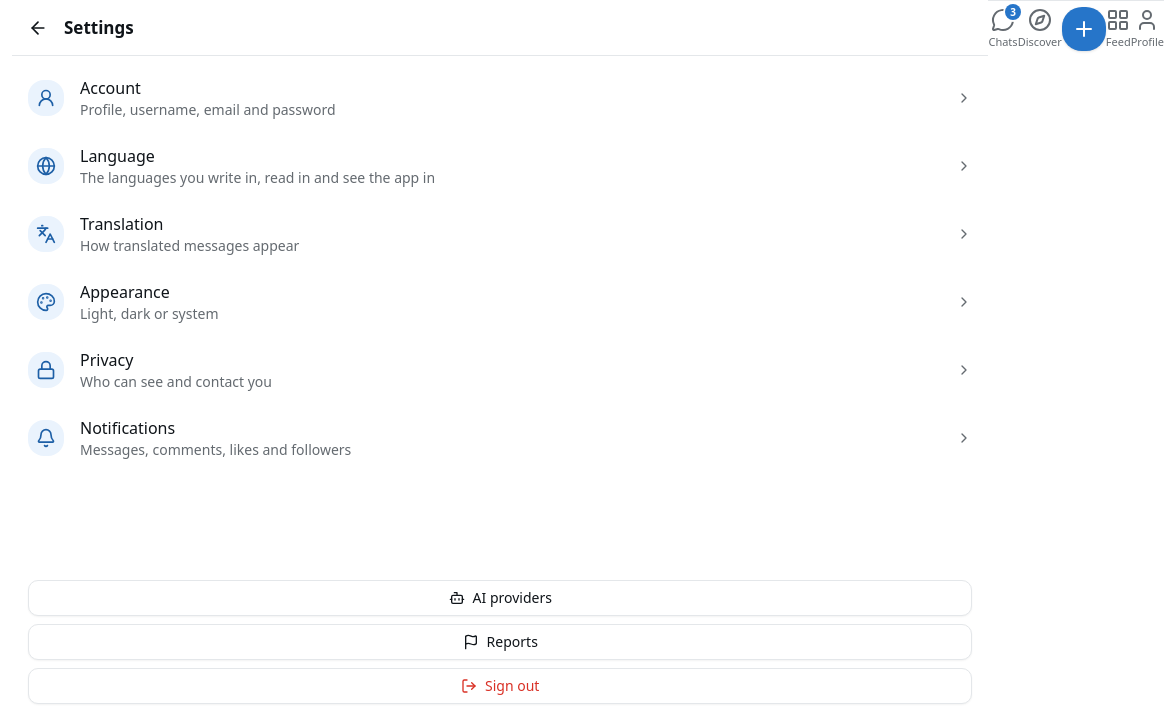
Test: settings › lists every section and navigates into one
Expected: the button "Account Profile, username, email and password" is shown, x1=12 y1=64 x2=988 y2=132
Expected: the button "Language" is shown, x1=12 y1=132 x2=988 y2=200
Click the button "Privacy Who can see and contact you". click: {"x": 46, "y": 370}
box: x1=12 y1=336 x2=988 y2=404
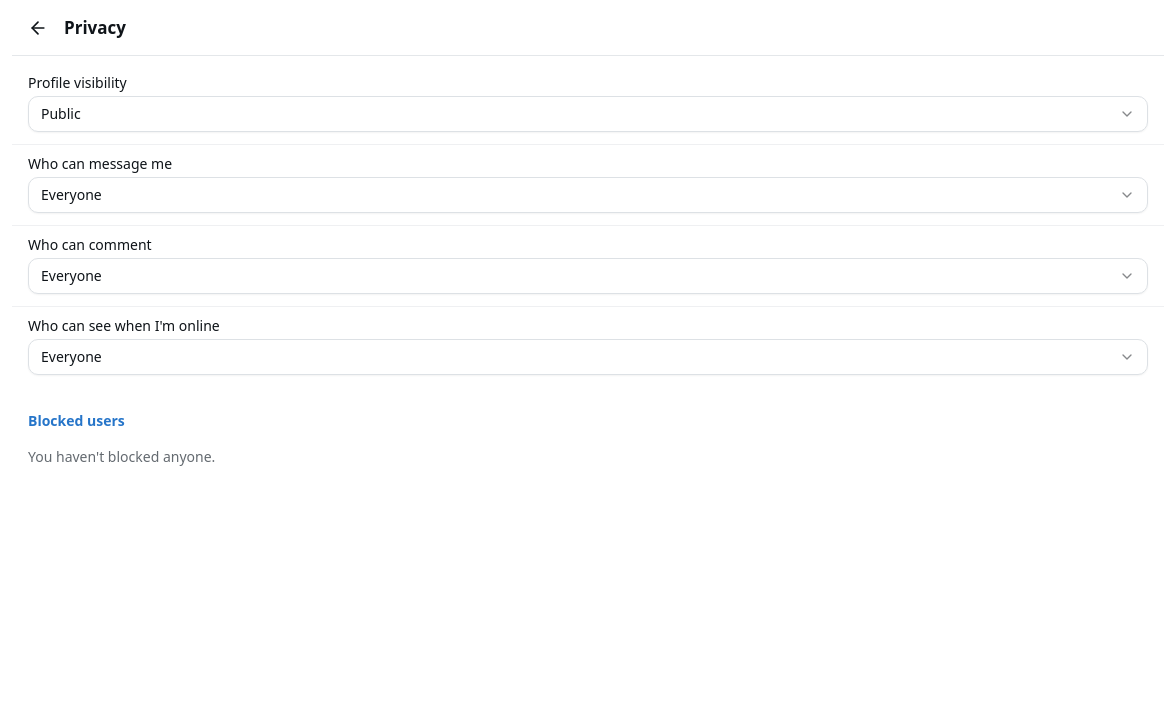
Now the heading "Privacy" is shown, box x1=64 y1=16 x2=126 y2=39
